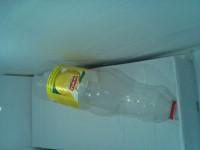bottle: (33, 57, 180, 127)
